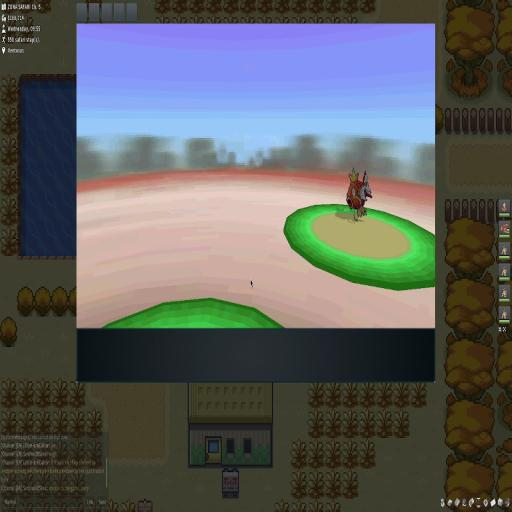MAGIKARP: (342, 168, 371, 224)
